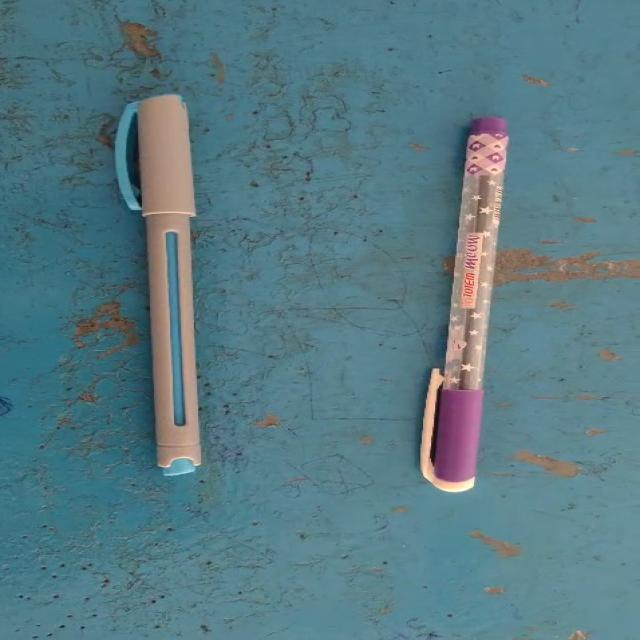pen: (86, 64, 266, 501), (391, 92, 561, 518)
